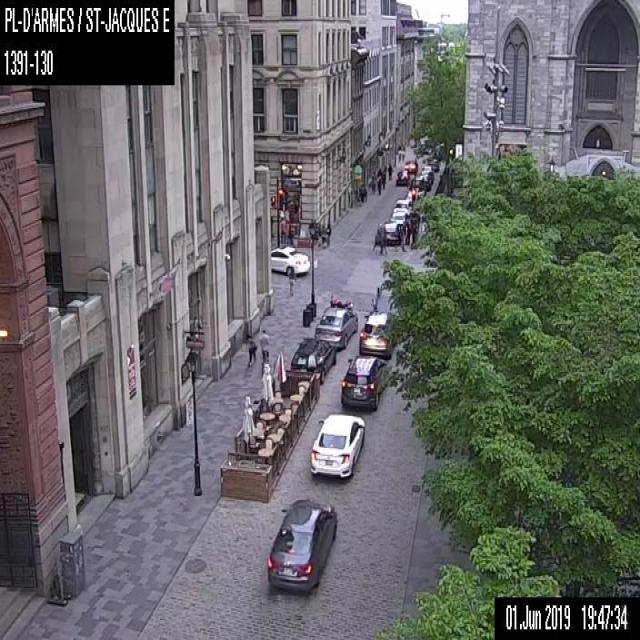pedestrian: (372, 221, 386, 255), (244, 330, 256, 368), (259, 328, 270, 359), (288, 267, 296, 295), (404, 220, 411, 245), (280, 216, 286, 245), (325, 222, 330, 245), (376, 174, 381, 194), (405, 178, 413, 190), (387, 161, 392, 180), (381, 172, 385, 189), (363, 187, 367, 202)
vehicle: (265, 498, 338, 591), (310, 412, 365, 478), (340, 354, 387, 408), (290, 337, 336, 384), (314, 306, 358, 348), (358, 311, 394, 358), (269, 243, 310, 276), (328, 292, 353, 306), (384, 222, 398, 244), (395, 169, 409, 185), (389, 211, 406, 224), (394, 198, 412, 208), (404, 160, 417, 172)
